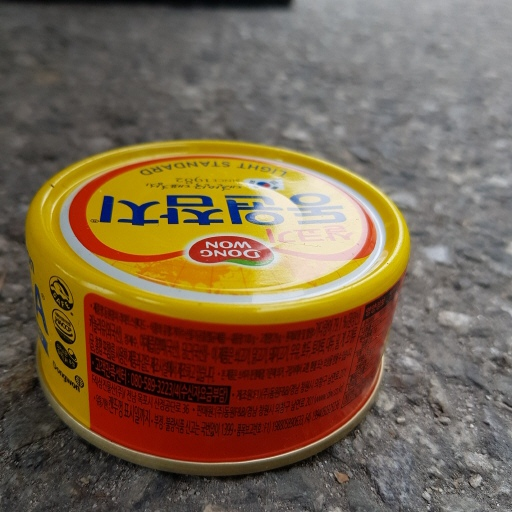Metal_1: (20, 135, 414, 477)
